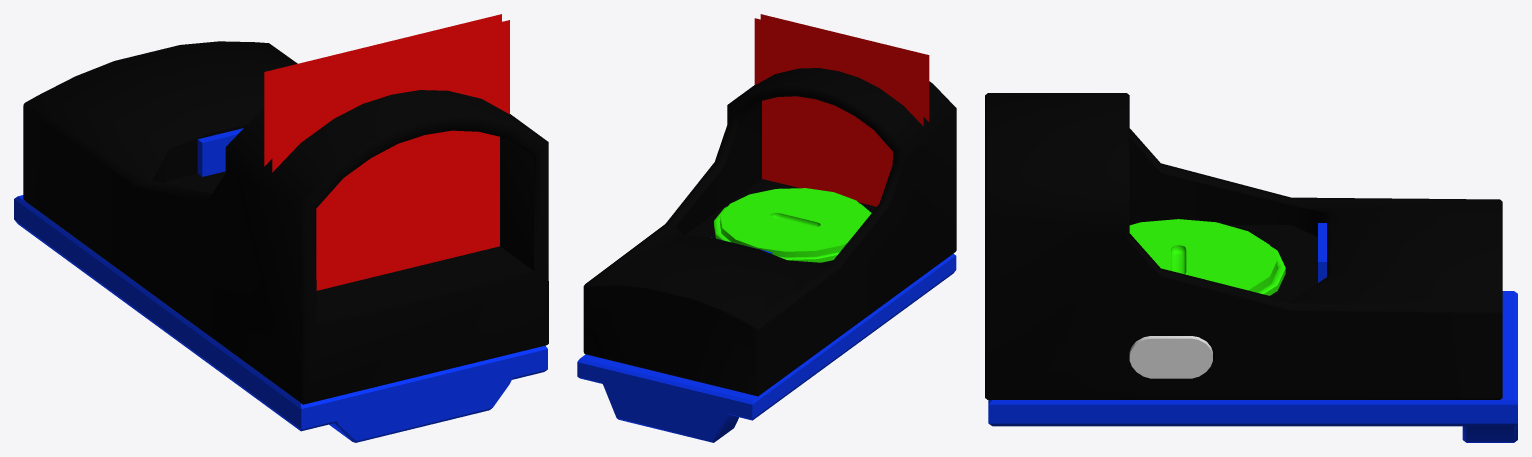
The model's file is Red-Dot-Sight.FBX.
The picture shows the model from 3 angles, left to right: view 1: azimuth 30°, elevation 25°; view 2: azimuth 150°, elevation 25°; view 3: azimuth 270°, elevation 25°; orthographic projection. The views are drawn at different scales.
Visible parts, largest first — view 1: RedDot_low, Glass Pane-Dot, Red-dot Mount, Glass Pane, Low-Poly-Pad; view 2: RedDot_low, Glass Pane, Red-dot Mount, Glass Pane-Dot; view 3: RedDot_low, Red-dot Mount, RedDotButton_low, Low-Poly-Pad.
Part boxes in pixels (box(x1,y1,x2,y2)): RedDot_low: box(23, 41, 548, 404); Glass Pane-Dot: box(272, 20, 509, 290); Red-dot Mount: box(14, 195, 547, 442); Glass Pane: box(264, 14, 501, 166); Low-Poly-Pad: box(197, 128, 243, 176); RedDot_low: box(583, 68, 956, 396); Glass Pane: box(754, 18, 923, 206); Red-dot Mount: box(577, 253, 956, 442); Glass Pane-Dot: box(760, 14, 929, 121); RedDot_low: box(985, 93, 1502, 399); Red-dot Mount: box(988, 291, 1517, 442); RedDotButton_low: box(1129, 336, 1212, 378); Low-Poly-Pad: box(1318, 223, 1326, 282).
Bounding box in the file's own units: 1.52 × 2.17 × 3.03.
